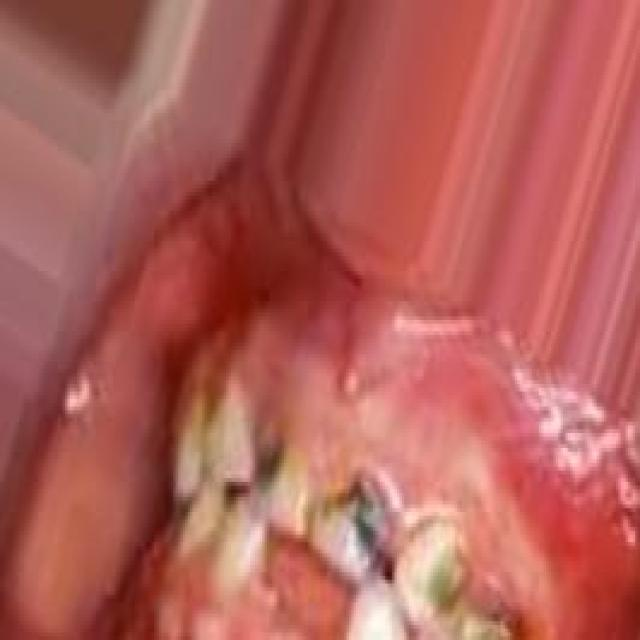caries: (310, 459, 393, 585), (400, 518, 470, 636), (247, 426, 312, 542)
